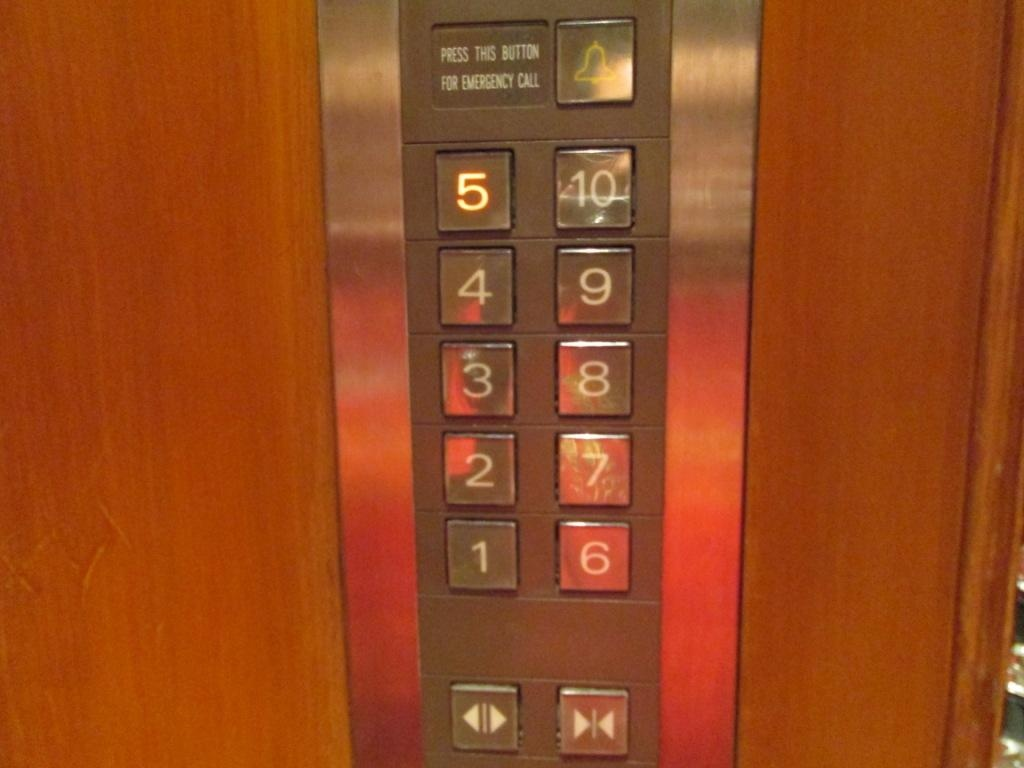1: (442, 517, 522, 595)
10: (548, 141, 637, 233)
2: (437, 428, 519, 508)
3: (435, 338, 520, 419)
4: (435, 245, 517, 328)
5: (431, 143, 518, 235)
6: (556, 520, 634, 596)
7: (552, 427, 635, 510)
8: (552, 336, 638, 418)
9: (552, 243, 639, 328)
alarm: (554, 19, 635, 105)
close: (557, 687, 632, 758)
open: (441, 676, 524, 755)
